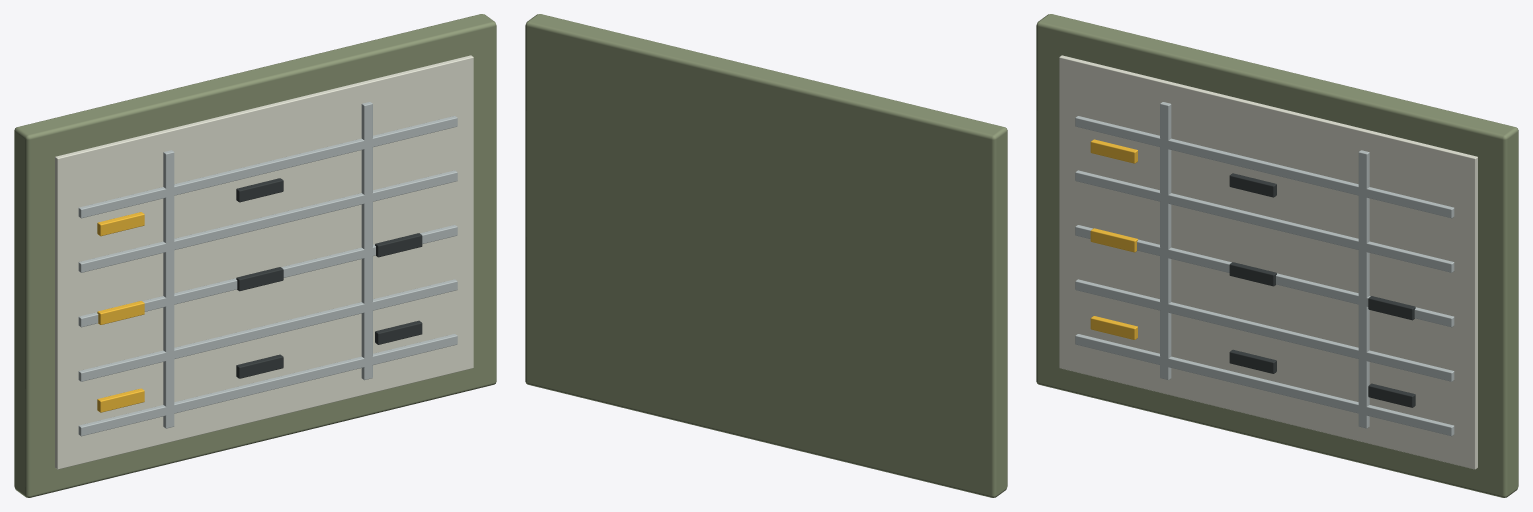
Rendered from mountain-border-checkpoint-mountain-border-checkpoint--27588537__30335.glb.
3 views of the same model, side by side, from view 1: azimuth 30°, elevation 25°; view 2: azimuth 150°, elevation 25°; view 3: azimuth 330°, elevation 25° (orthographic).
Parts seen in each view (by area): view 1: mountain-border-checkpoint-duty-rota-board; view 2: mountain-border-checkpoint-duty-rota-board; view 3: mountain-border-checkpoint-duty-rota-board.
Boxes of the visible parts, x1=… form: mountain-border-checkpoint-duty-rota-board: x1=14, y1=14, x2=496, y2=497; mountain-border-checkpoint-duty-rota-board: x1=525, y1=14, x2=1007, y2=497; mountain-border-checkpoint-duty-rota-board: x1=1036, y1=14, x2=1518, y2=497.
Size of the model in its own units: 0.95 by 0.6999 by 0.081.
